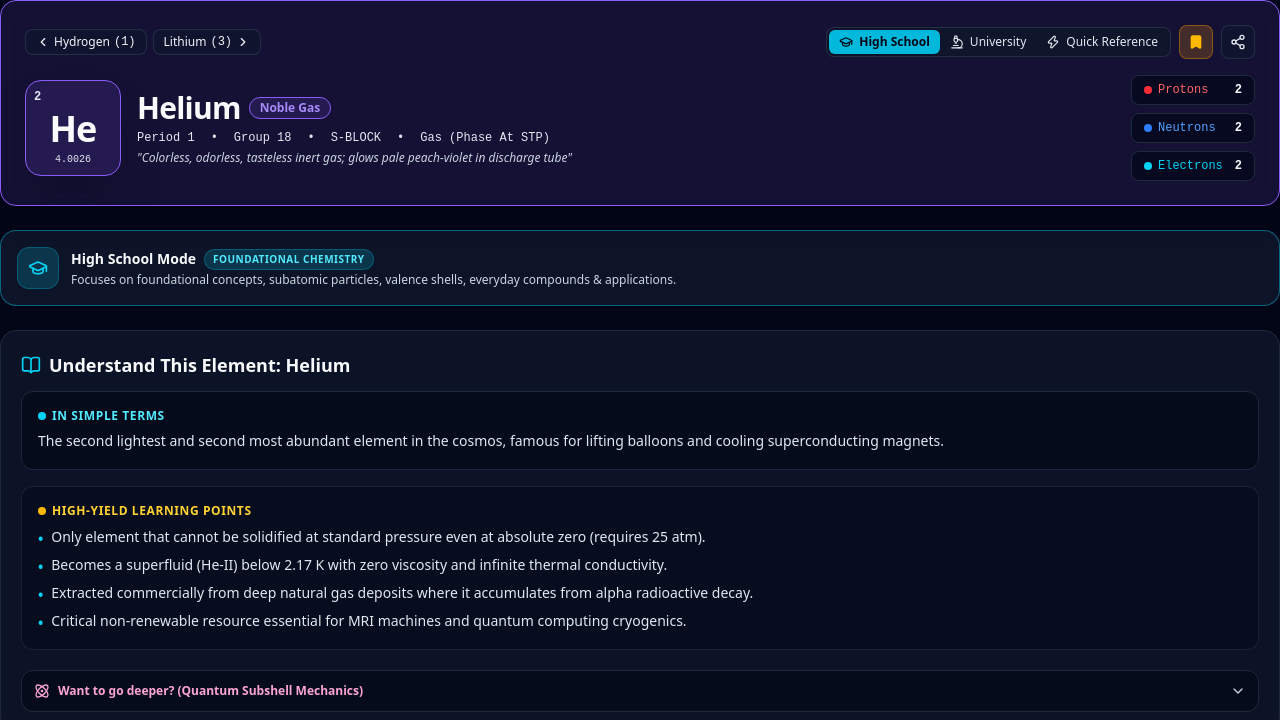
it: ElementDetails Educational Modes › renders accessible controls with proper ARIA attributes
Expected: the button with aria-label "previous element: hydrogen" is shown, [25,29,146,55]
Expected: the button with aria-label "next element: lithium" is shown, [152,29,261,55]
Click the button "Want to go deeper? (Quantum Subshell Mechanics)": (211, 690) [21,670,1259,712]
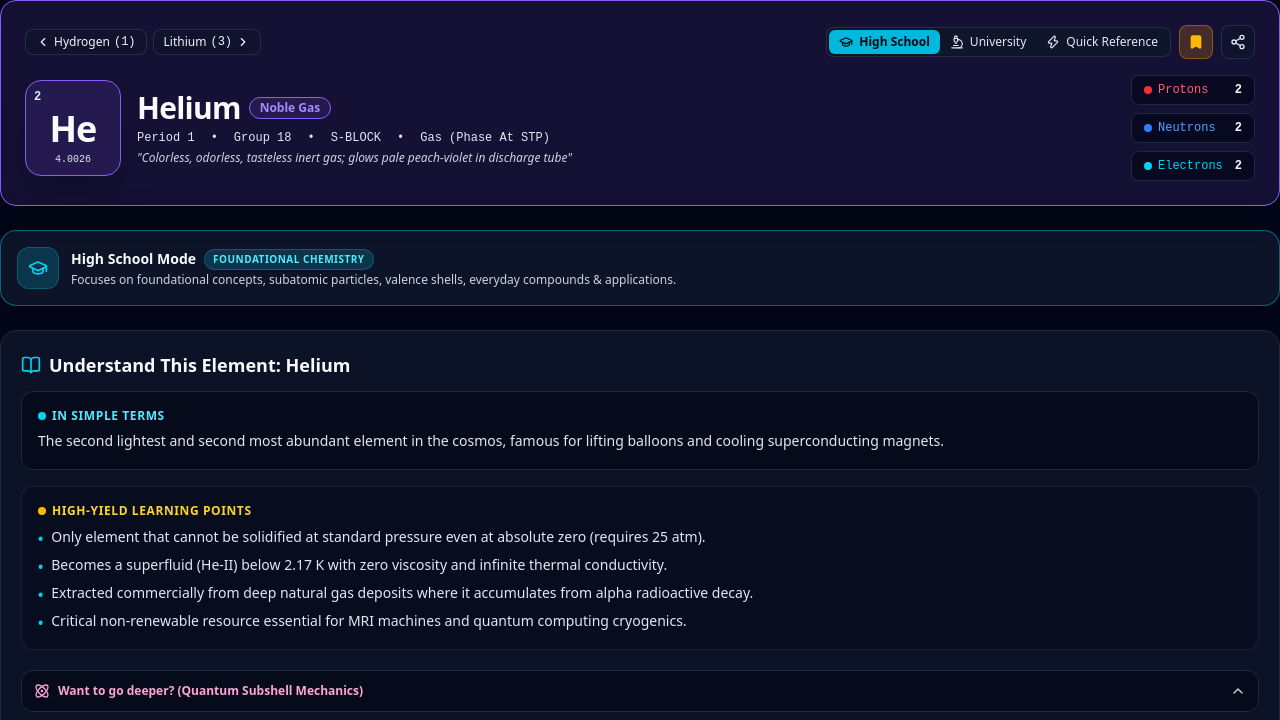
Expected: the button "Want to go deeper? (Quantum Subshell Mechanics)" is expanded, [21,670,1259,712]
